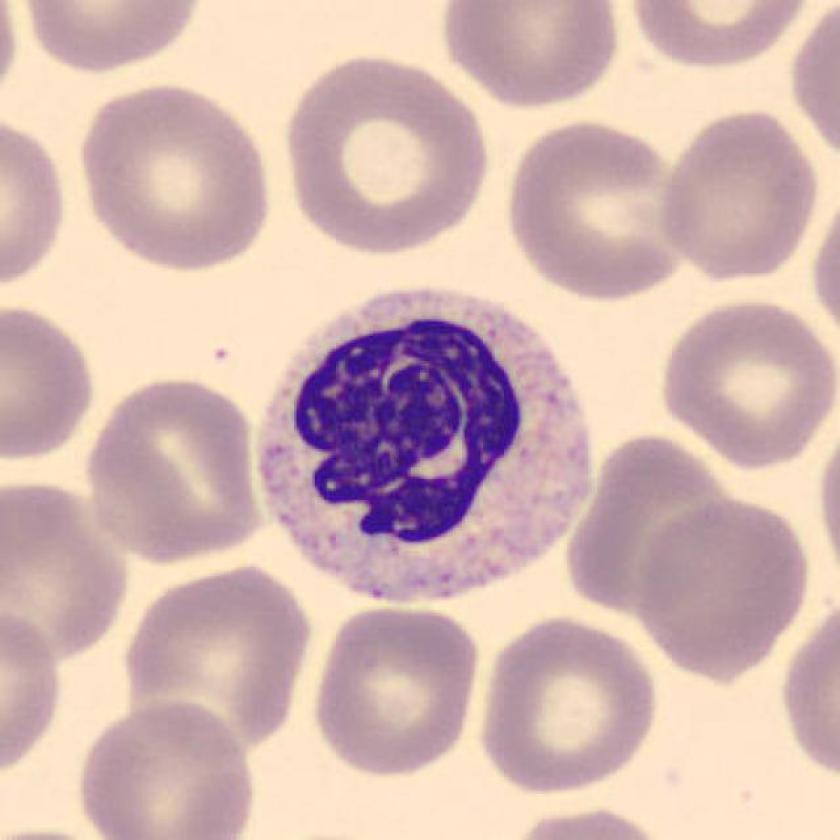neutrophil: (258, 290, 594, 607)
